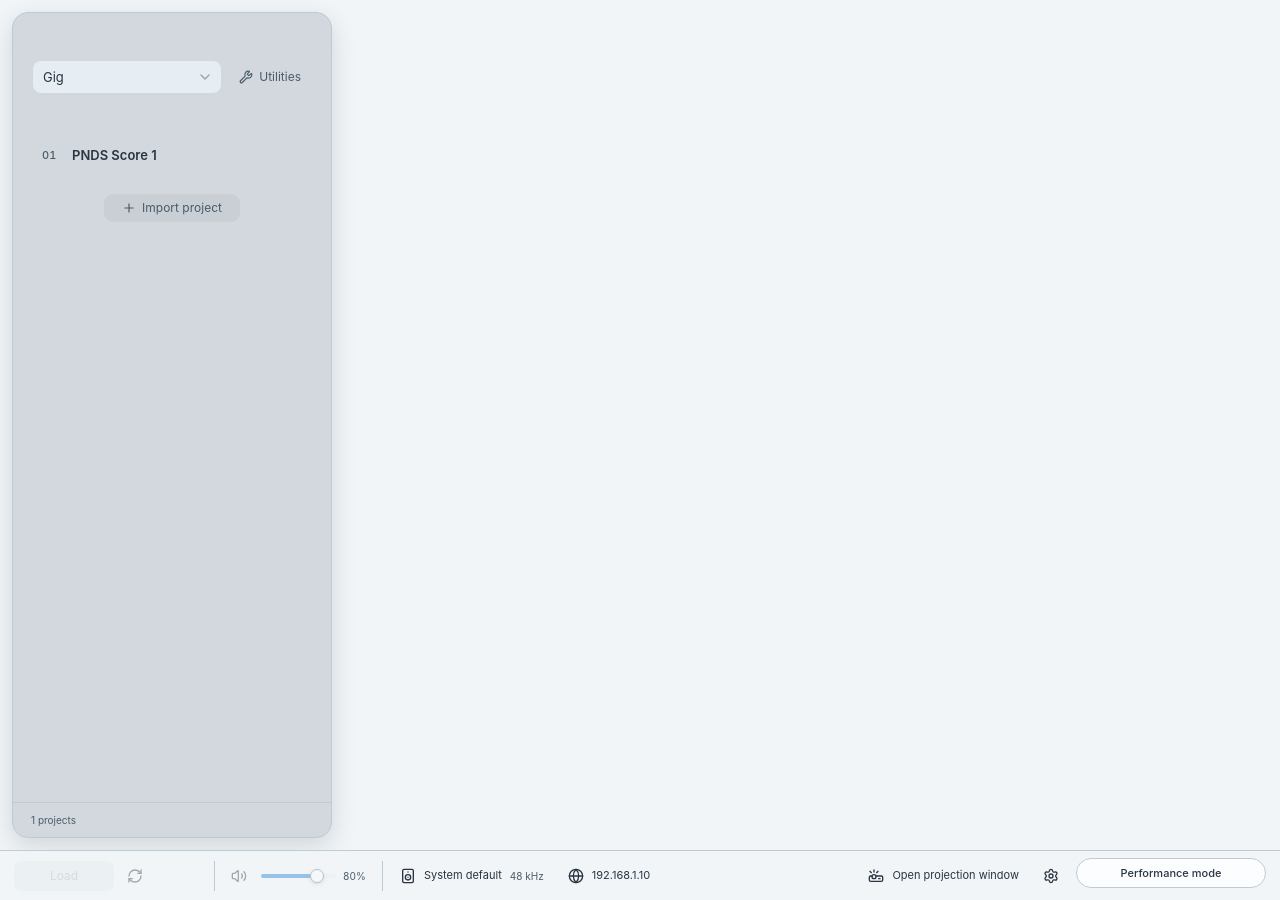
Test: ⌘R project rename (v1.1.2 T6) › renames the drilled-in folder when nothing is selected inside it
Press r
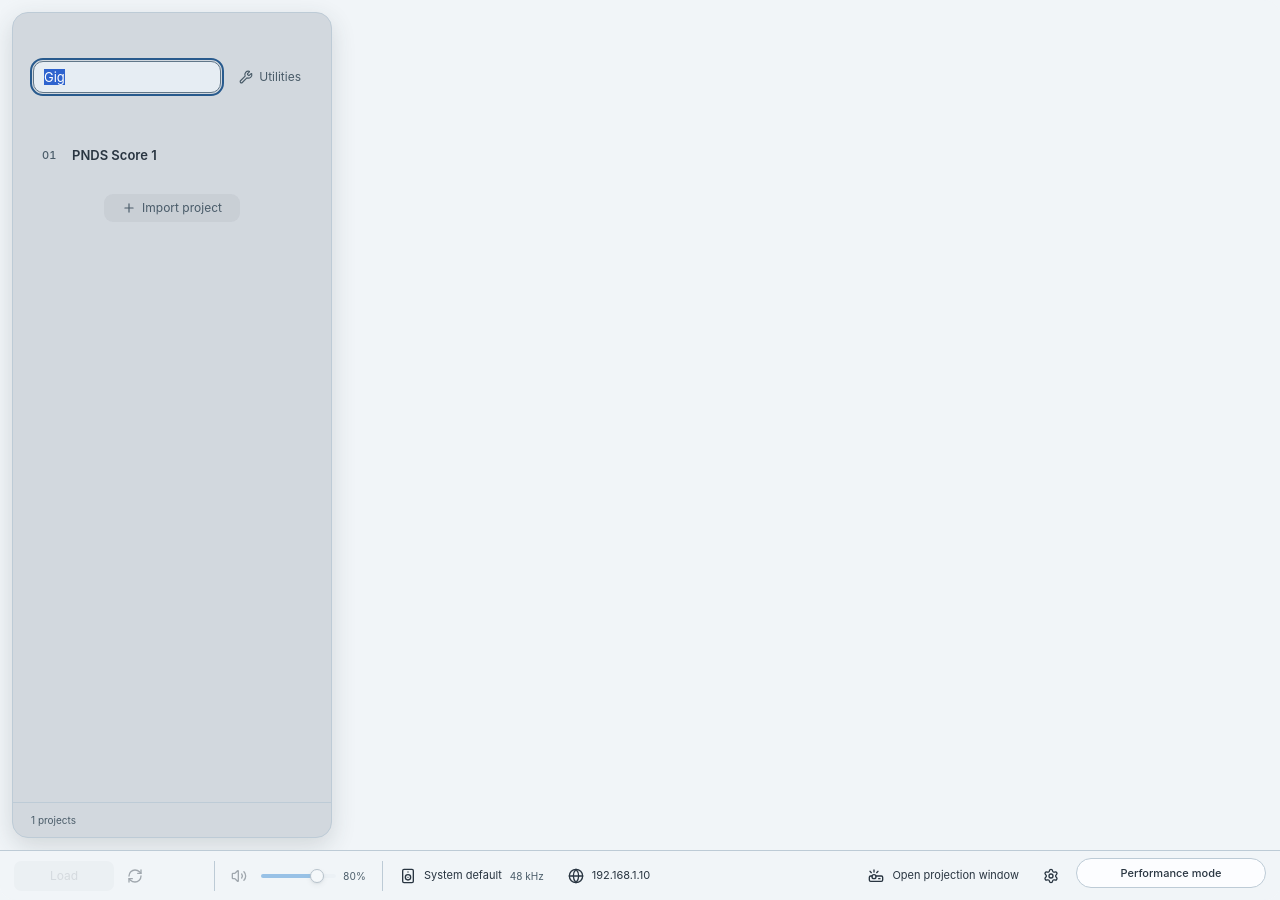
Expected: the field with test id "folder-name-input" holds "Gig"
Replace the text in the field with test id "folder-name-input" with "Tour 2026": x=127, y=77 [33, 61, 221, 93]
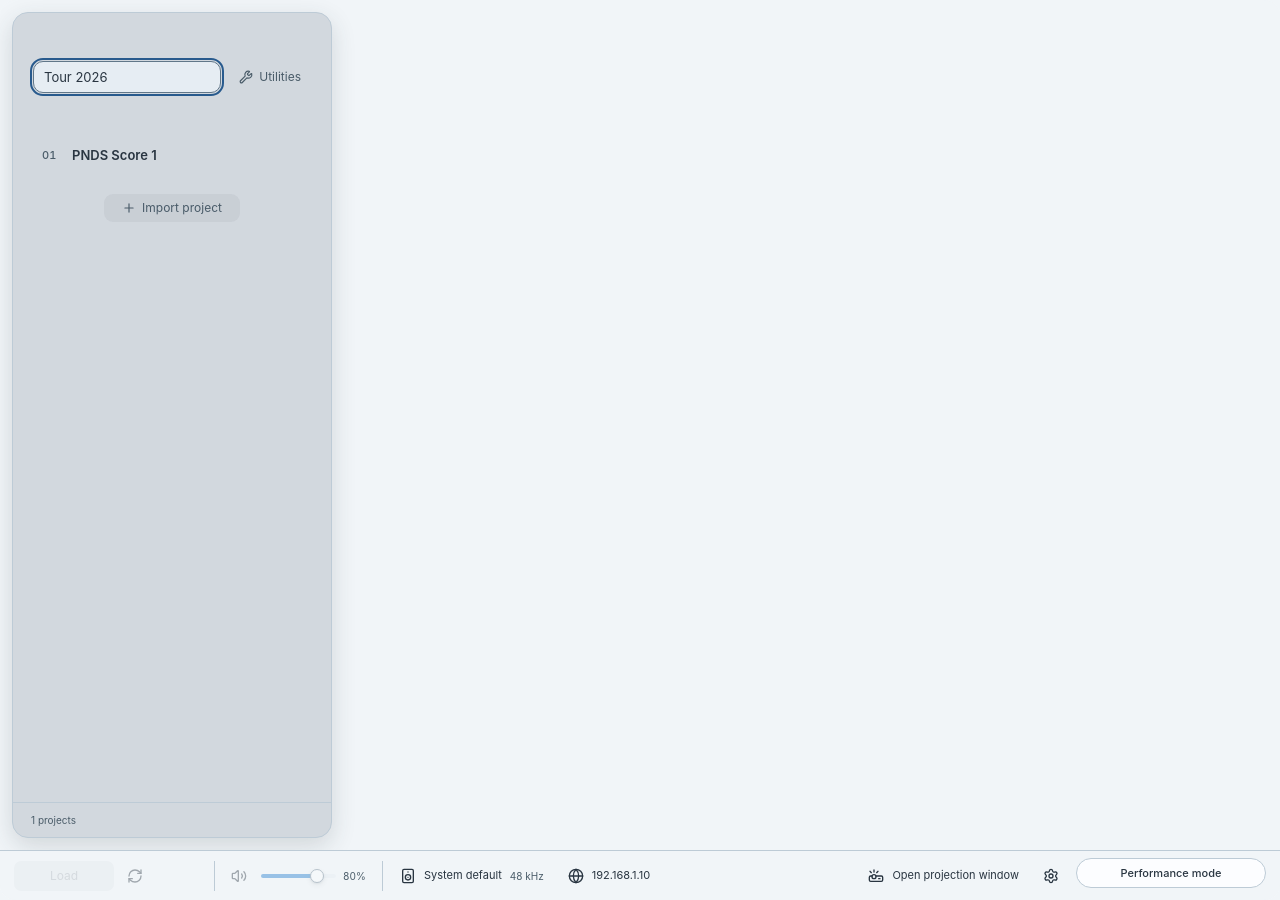
Press Enter in the field with test id "folder-name-input", box [33, 61, 221, 93]
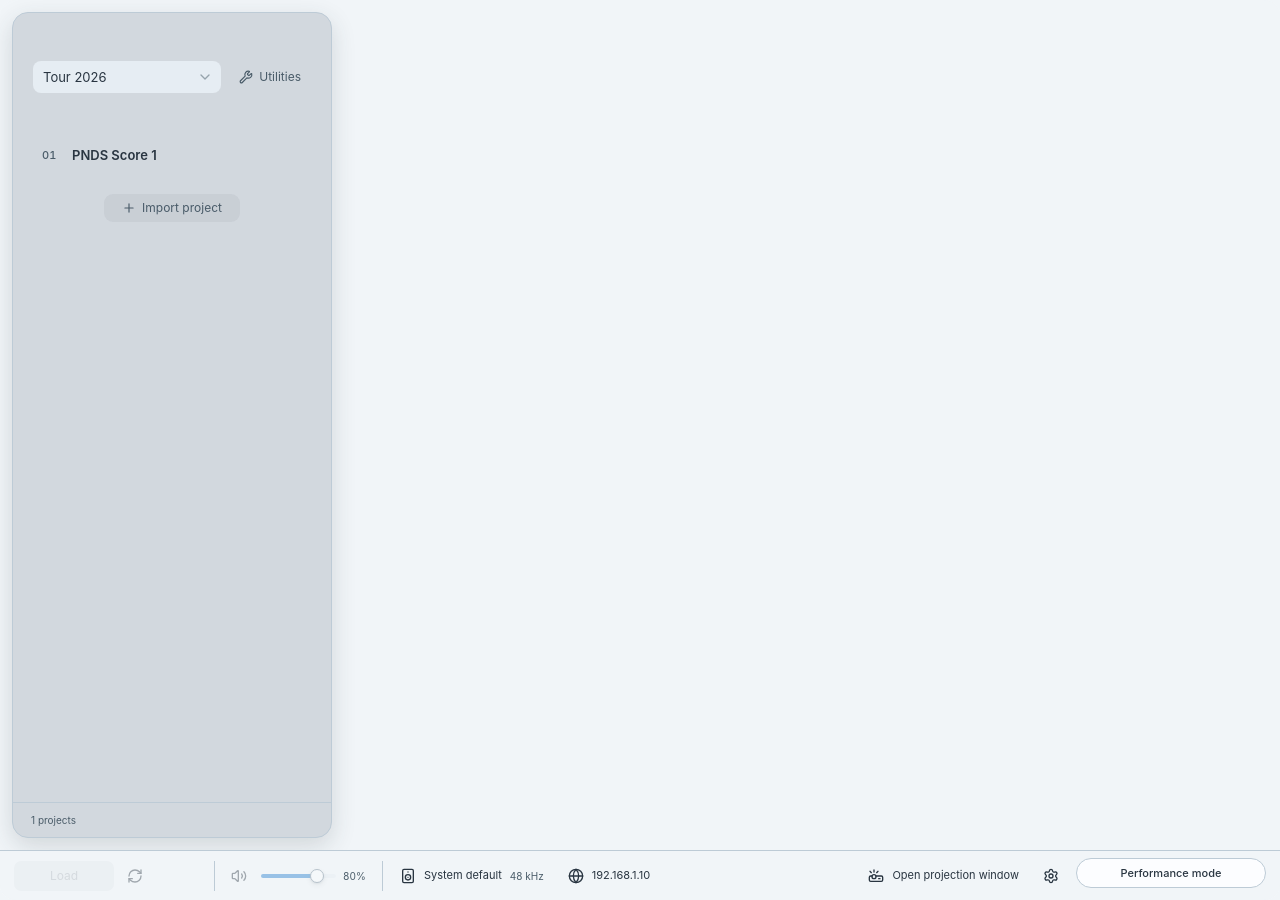
Expected: the dropdown with test id "folder-picker" reads "Tour 2026", [33, 61, 221, 93]
